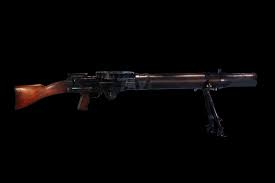gun: (11, 68, 257, 140)
